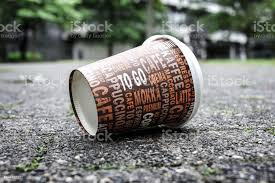cup: (66, 34, 203, 139)
